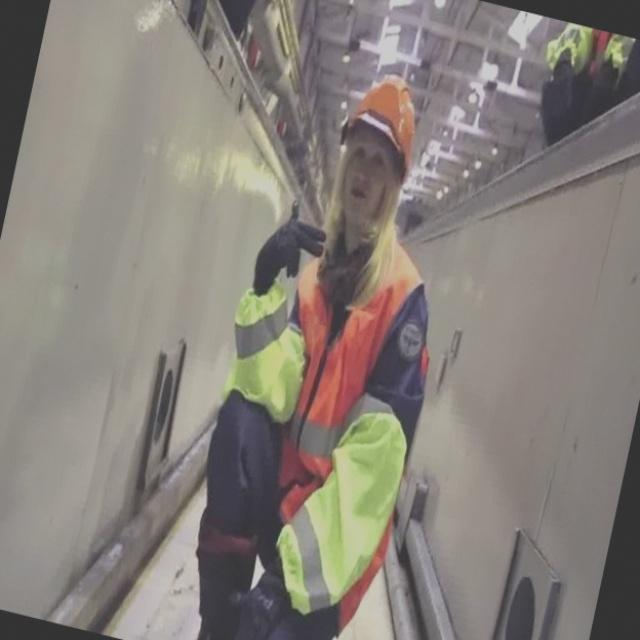helmet: (349, 74, 424, 178)
safety_vest: (205, 225, 420, 631)
